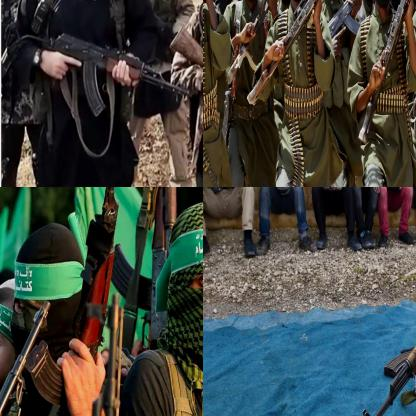rifle: (26, 187, 141, 387), (18, 28, 191, 121), (246, 0, 380, 109), (362, 235, 415, 415), (355, 0, 415, 146), (141, 187, 185, 339), (0, 296, 55, 415), (82, 293, 134, 415), (203, 0, 254, 116)
